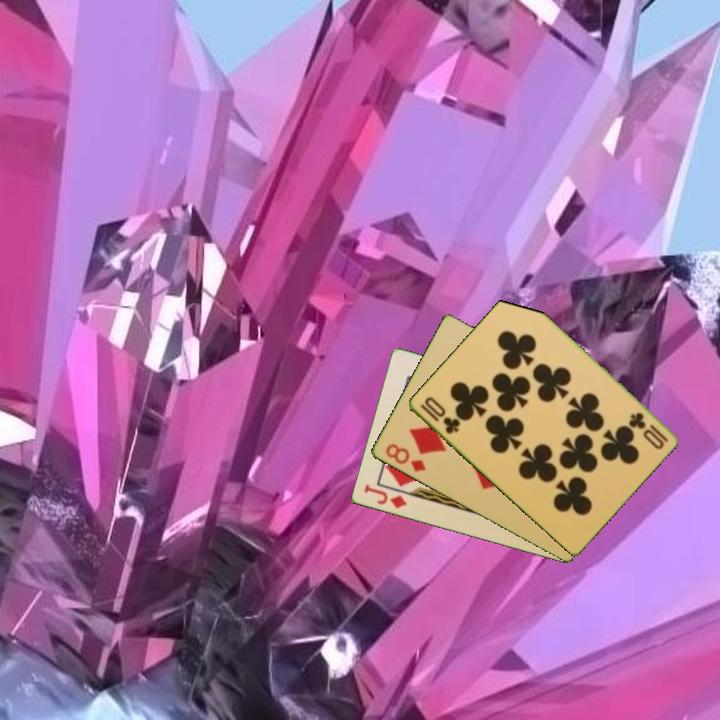10c: (416, 393, 463, 437), (625, 409, 671, 452)
8d: (382, 440, 429, 475)
Jd: (360, 481, 409, 512)
